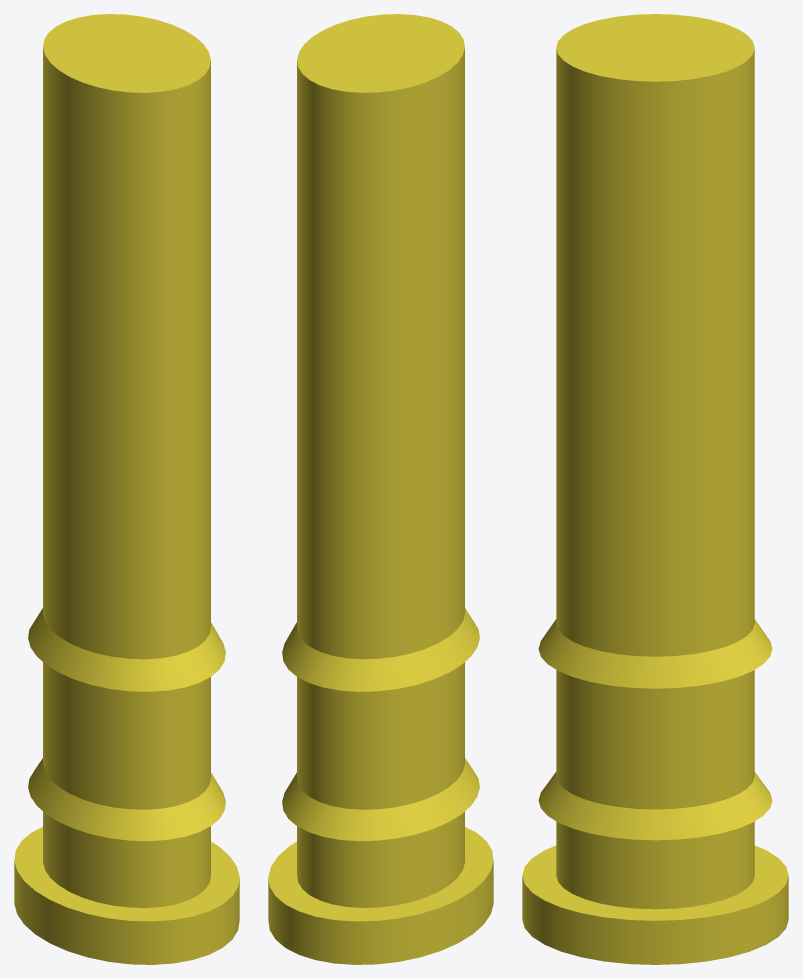
The model's file is Pilastra_PortariaP.fbx.
3 views of the same model, side by side, from view 1: azimuth 30°, elevation 25°; view 2: azimuth 150°, elevation 25°; view 3: azimuth 270°, elevation 25° (orthographic).
Visible parts, largest first — view 1: Pilastra_PortariaP; view 2: Pilastra_PortariaP; view 3: Pilastra_PortariaP.
Part boxes in pixels (x1,y1,x2,y2): Pilastra_PortariaP: (14,14,239,964); Pilastra_PortariaP: (268,14,493,964); Pilastra_PortariaP: (522,14,788,964).
Size of the model in its own units: 88.94 by 398 by 110.
